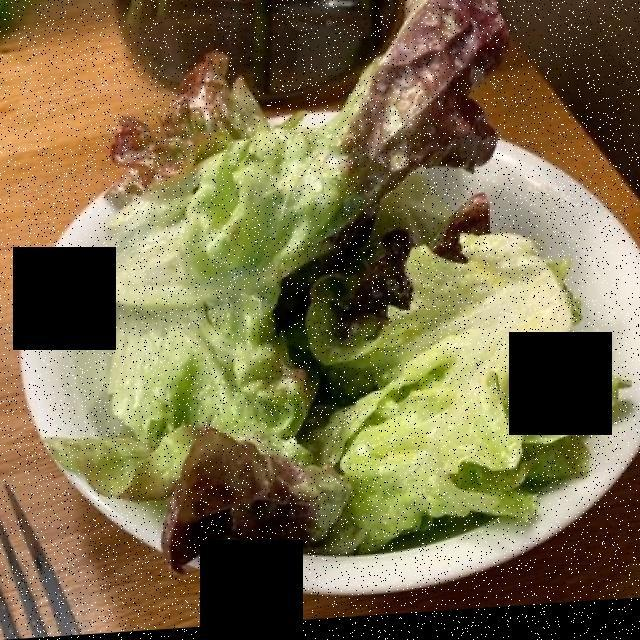salad: (85, 0, 615, 540)
